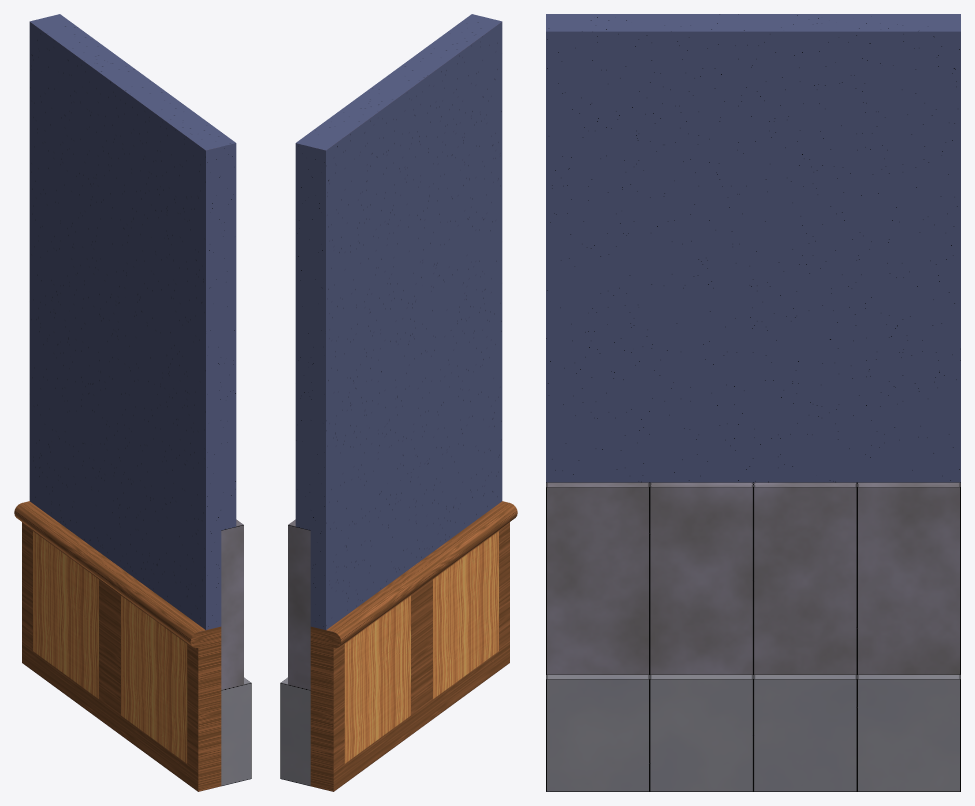
The model's file is ParedExteriorBaja.fbx.
3 views of the same model, side by side, from view 1: azimuth 30°, elevation 25°; view 2: azimuth 150°, elevation 25°; view 3: azimuth 270°, elevation 25° (orthographic). The views are drawn at different scales.
Parts seen in each view (by area): view 1: ParedExteriorBaja; view 2: ParedExteriorBaja; view 3: ParedExteriorBaja.
Boxes of the visible parts, x1,y1,x2,y2 form: ParedExteriorBaja: [14, 14, 251, 791]; ParedExteriorBaja: [280, 14, 517, 791]; ParedExteriorBaja: [546, 14, 960, 791].
Size of what is drawn, in the model's own units: 200 by 40 by 400.
